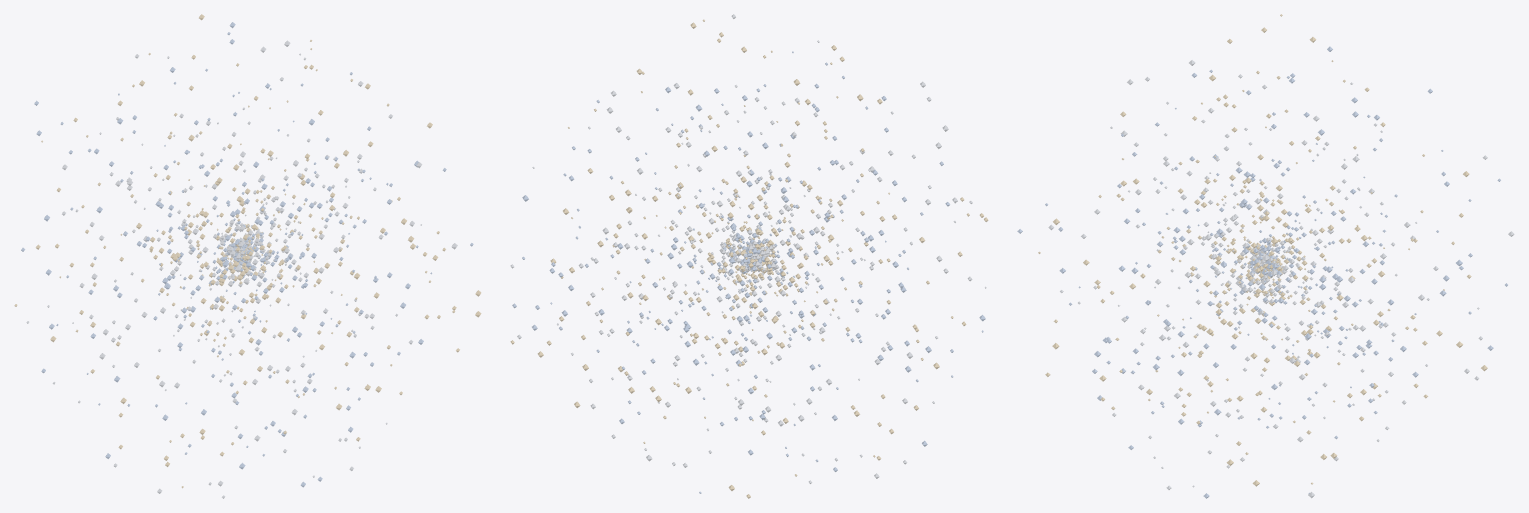
The picture shows the model from 3 angles, left to right: view 1: azimuth 30°, elevation 25°; view 2: azimuth 150°, elevation 25°; view 3: azimuth 270°, elevation 25°; orthographic projection. The views are drawn at different scales.
Size of the model in its own units: 4.81 by 5.06 by 5.16.
